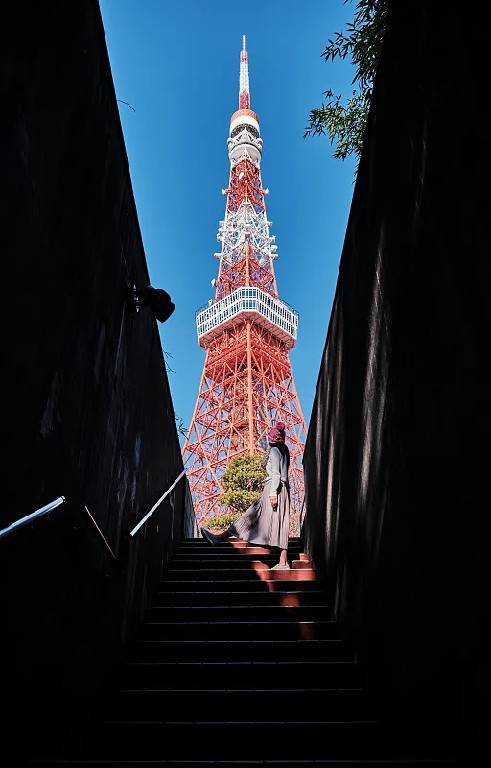Tokyo: (183, 30, 309, 532)
